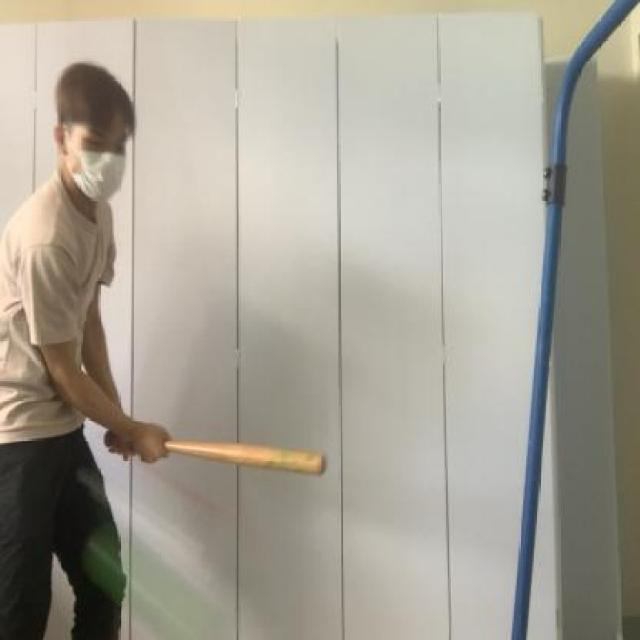baseball: (86, 517, 245, 640)
